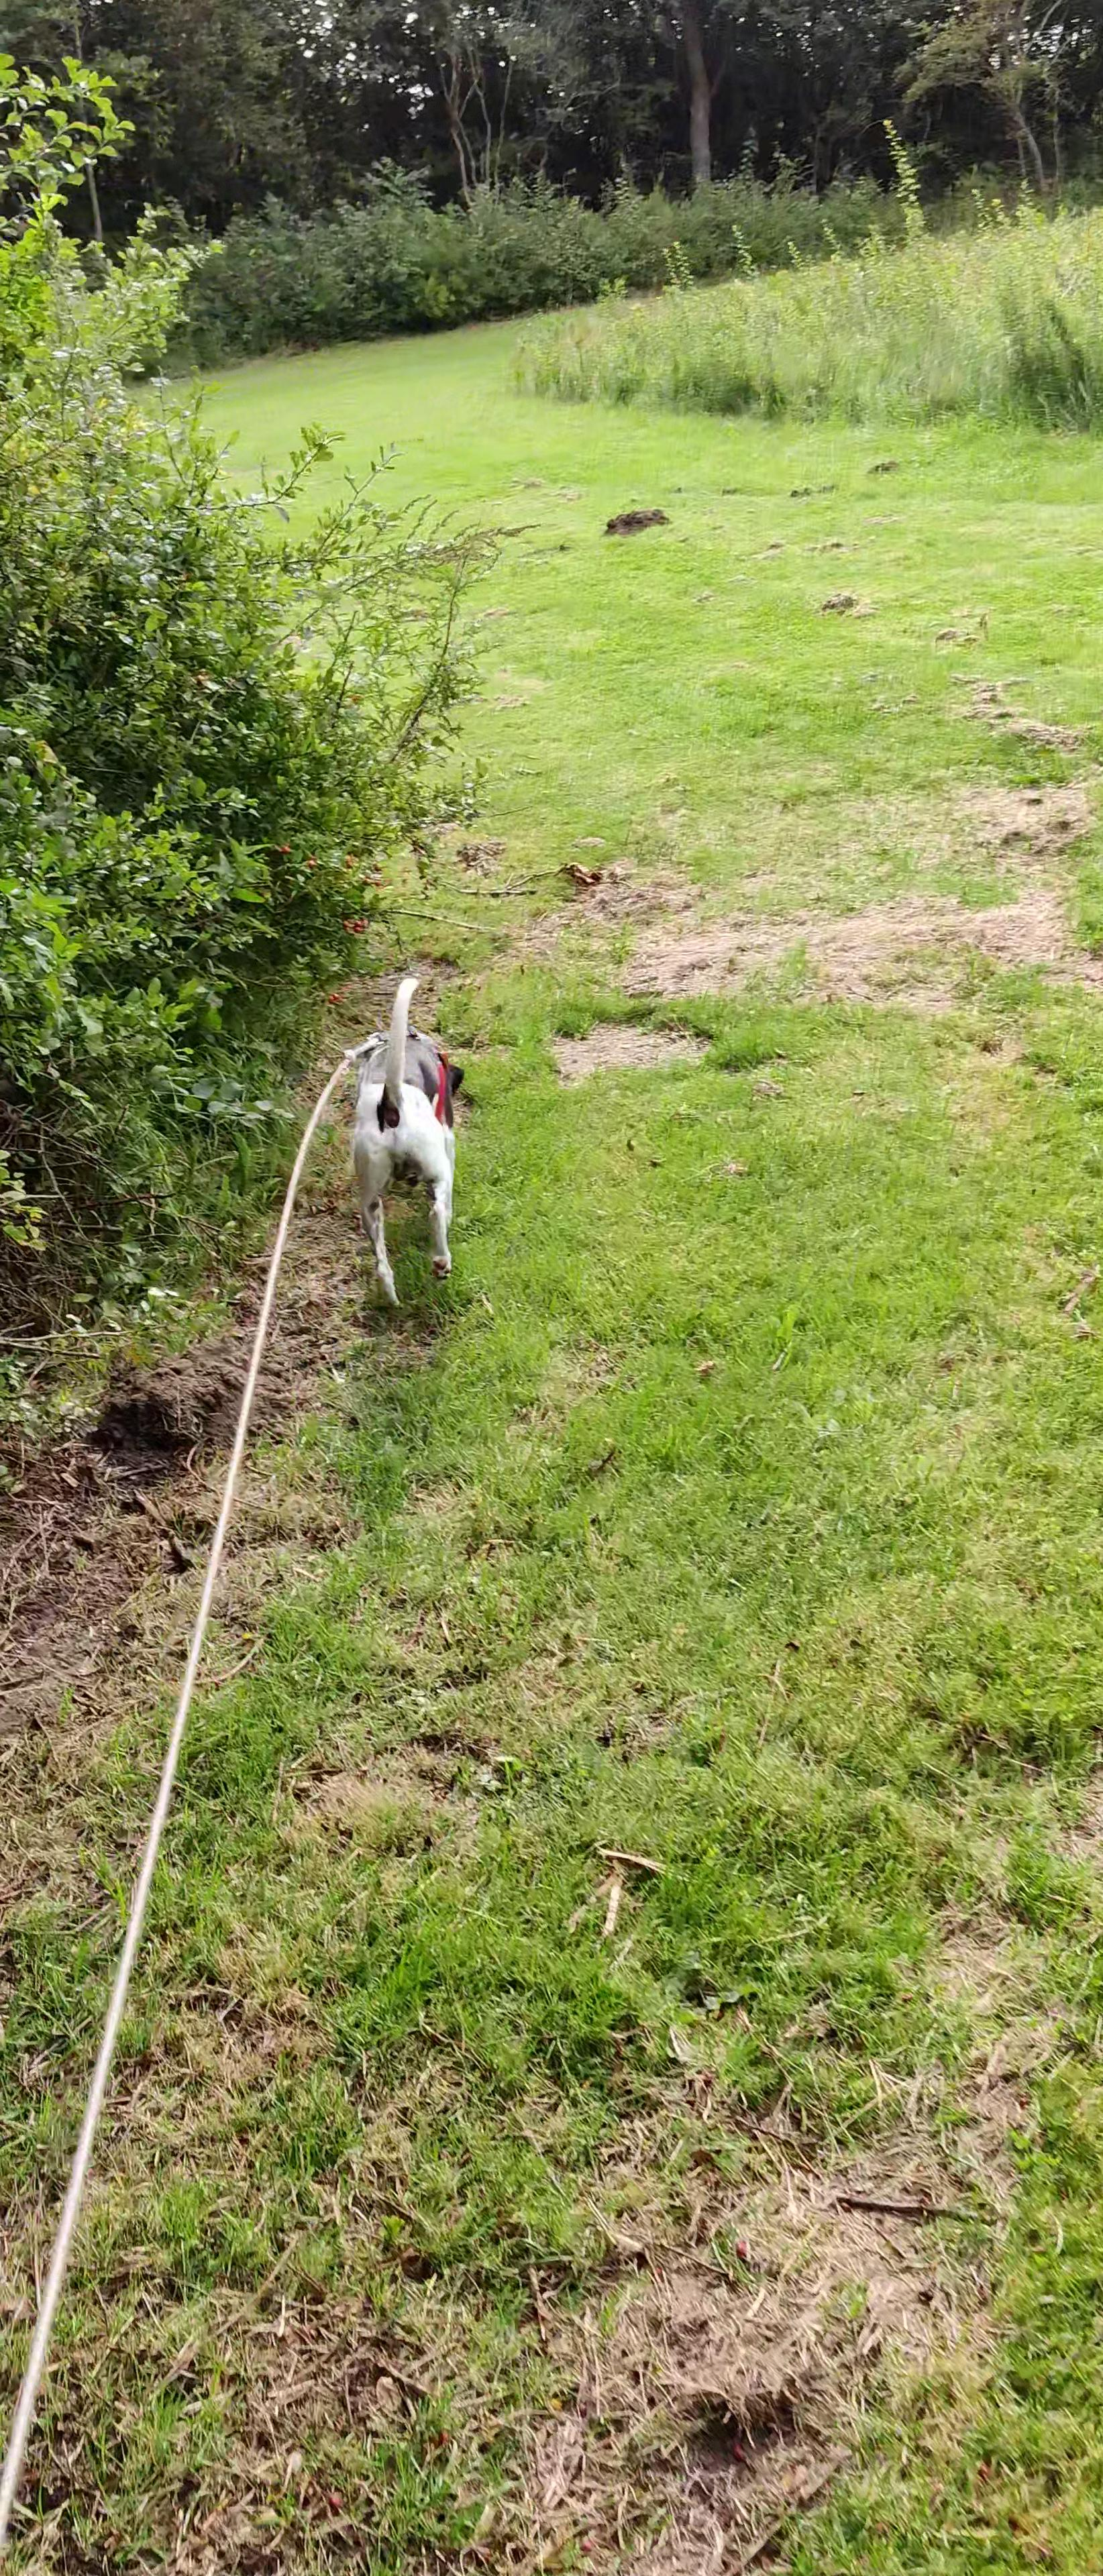Dog: (325, 966, 467, 1314)
